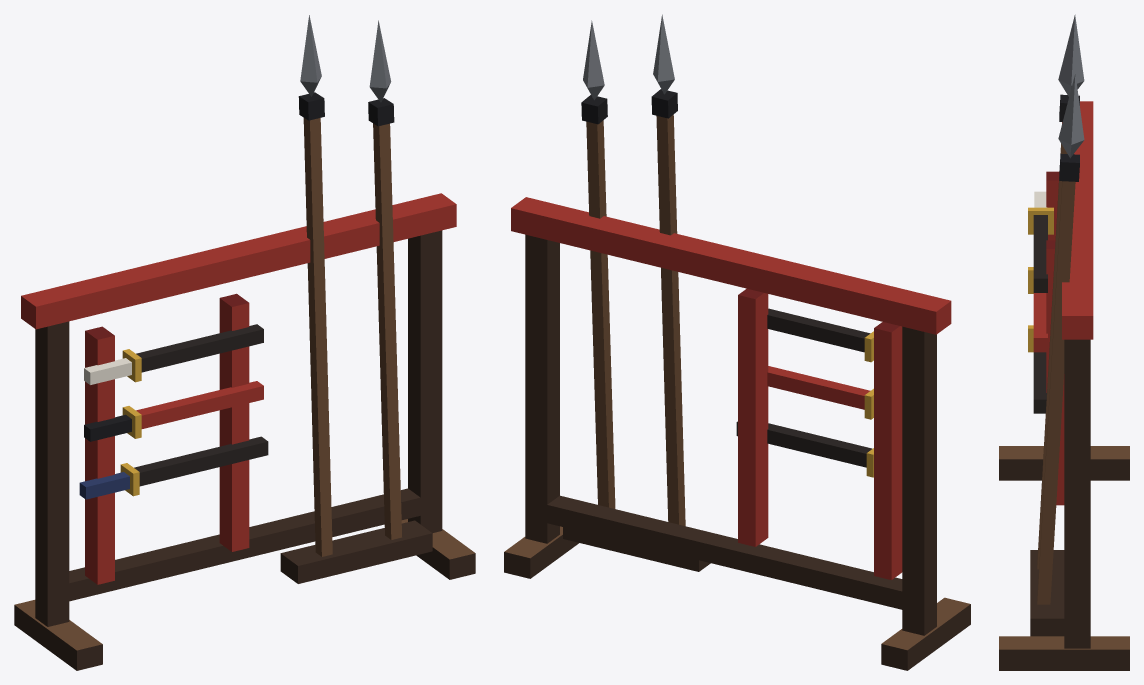
The model's file is weapon_rack.fbx.
The picture shows the model from 3 angles, left to right: view 1: azimuth 30°, elevation 25°; view 2: azimuth 150°, elevation 25°; view 3: azimuth 270°, elevation 25°; orthographic projection. The views are drawn at different scales.
Visible parts, largest first — view 1: weapon_rack; view 2: weapon_rack; view 3: weapon_rack.
Part boxes in pixels (box(x1,y1,x2,y2)): weapon_rack: box(14, 15, 475, 670); weapon_rack: box(504, 14, 970, 670); weapon_rack: box(999, 14, 1129, 670).
Bounding box in the file's own units: 1.94 × 2.49 × 0.5.
